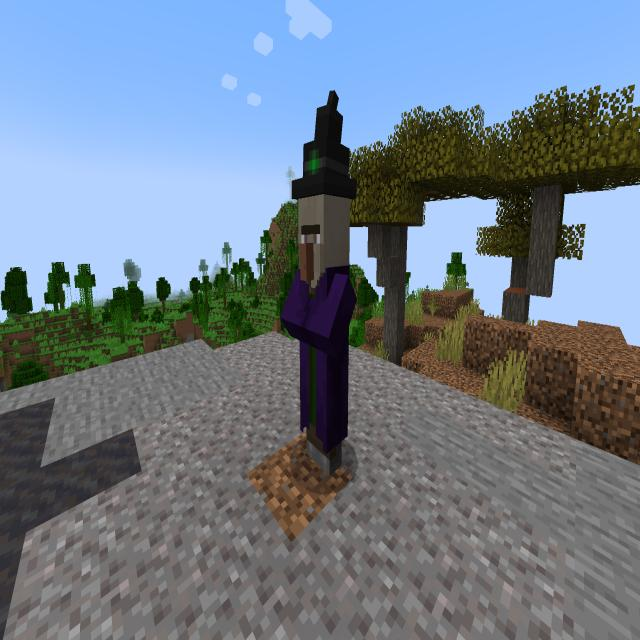Witch: (273, 78, 361, 496)
